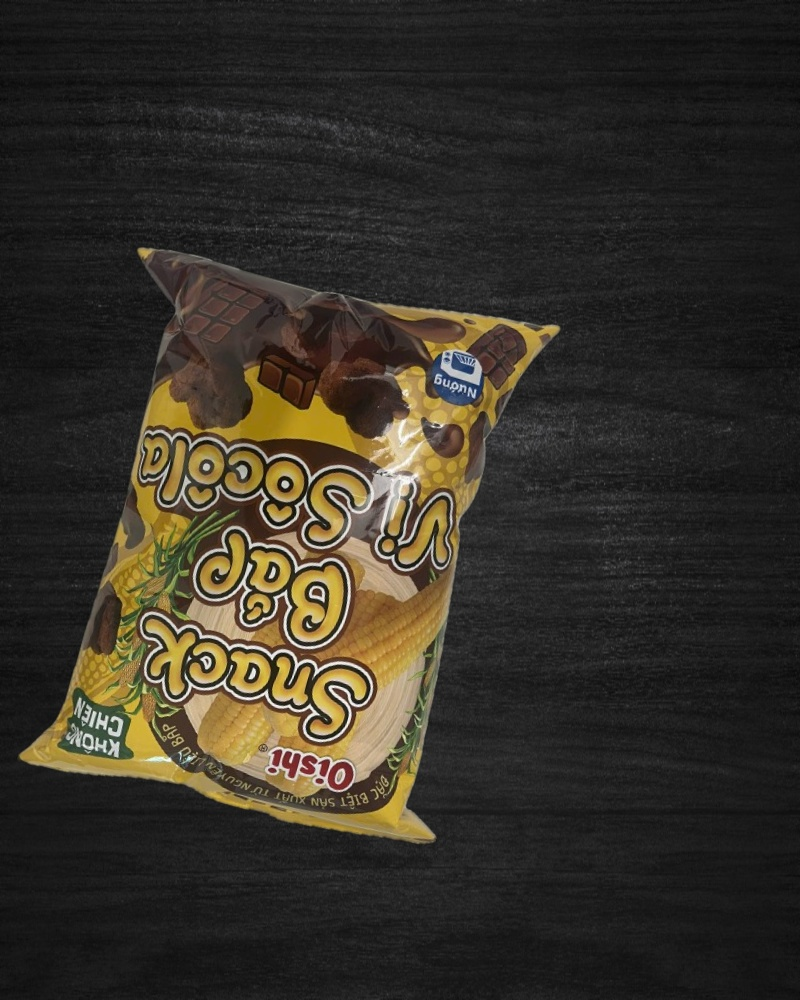Snack socola: (3, 219, 572, 870)
